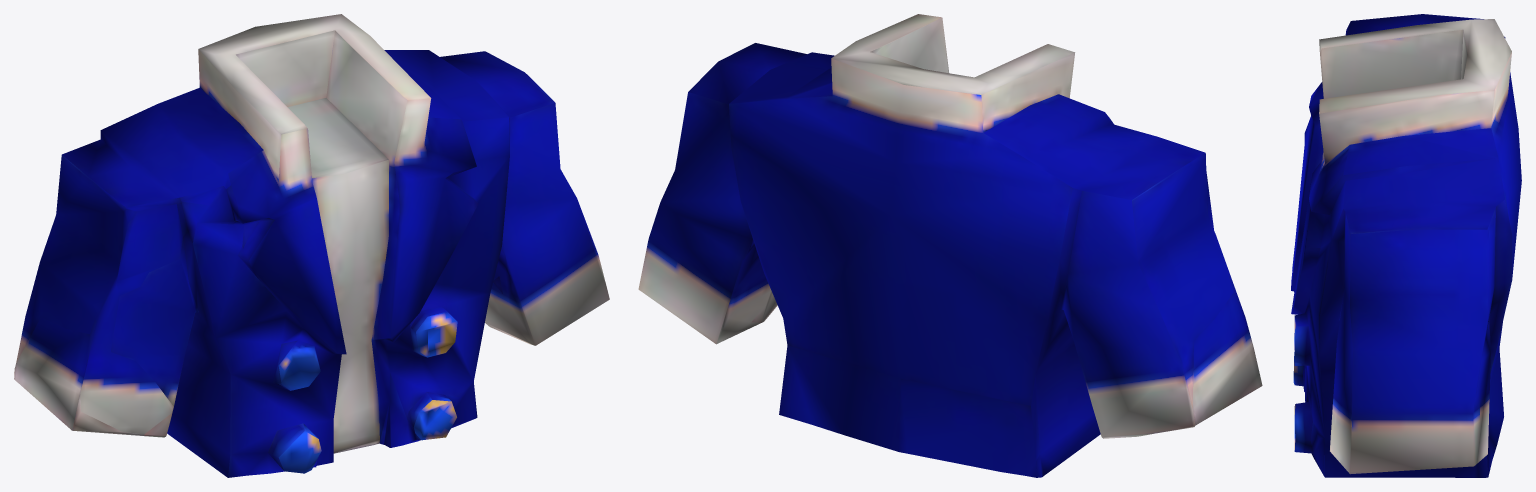
The model's file is costume-louis14.glb.
3 renders of one model, left to right at view 1: azimuth 30°, elevation 25°; view 2: azimuth 150°, elevation 25°; view 3: azimuth 270°, elevation 25°, orthographic. The views are drawn at different scales.
Visible parts, largest first — view 1: material.001; view 2: material.001; view 3: material.001.
Part boxes in pixels (bbox=[...]): material.001: bbox=[14, 14, 609, 477]; material.001: bbox=[638, 14, 1262, 477]; material.001: bbox=[1291, 14, 1521, 477].
Size of the model in its own units: 0.805 by 0.5109 by 0.2943.
Materials: 1 (1 with a texture image).
